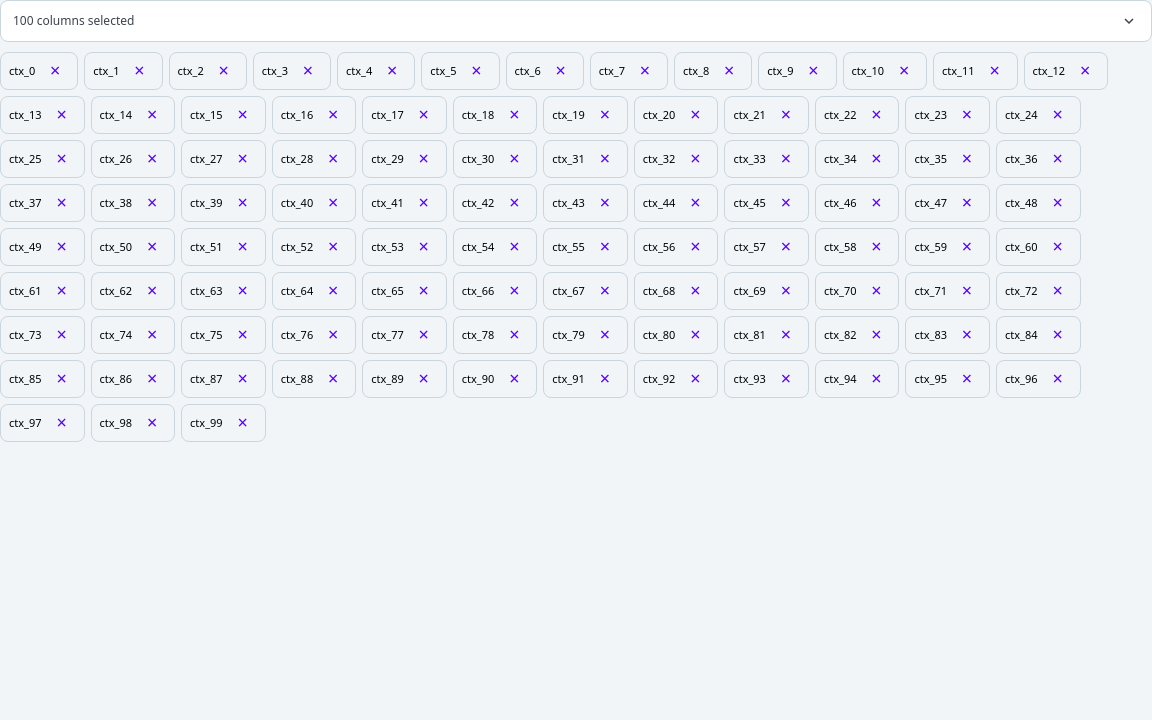
it: Changed column picker › bounds the list and selected count without discarding catalog values
The width and height of the screenshot is (1152, 720).
Click the button with aria-label "Changed columns (optional)". click: (74, 21)
box: [0,0,1151,42]
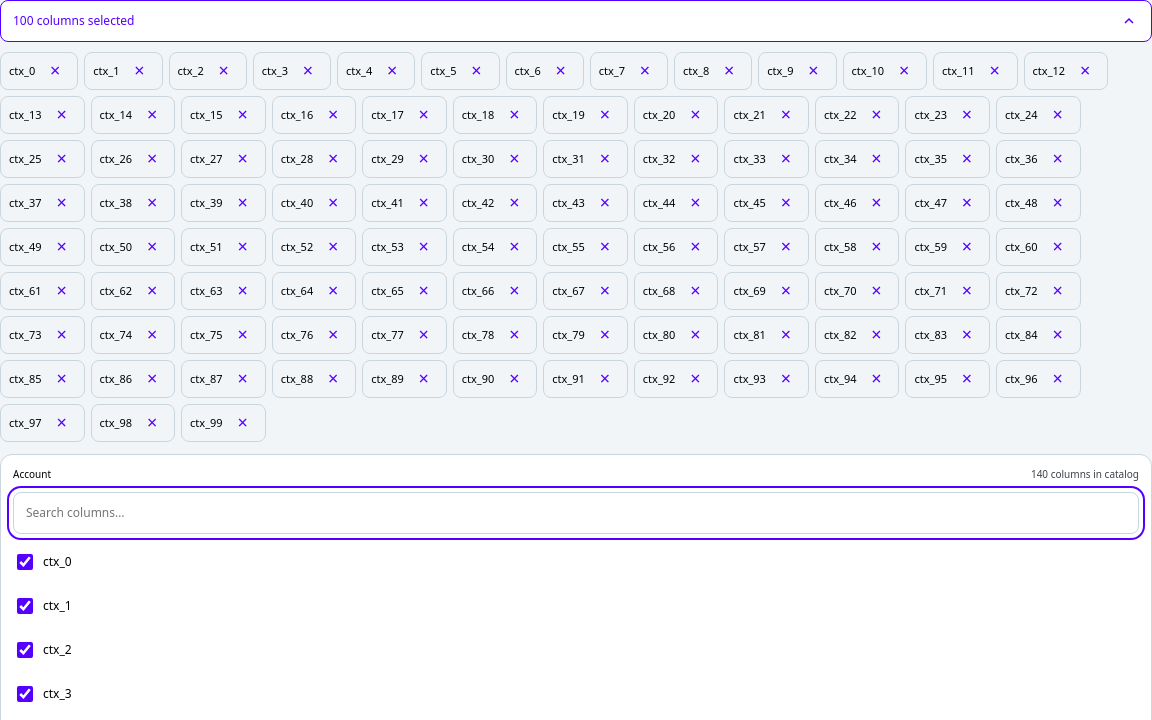
Type "ctx_139" into the search field. click: (576, 512)
box: [13,492,1139,534]
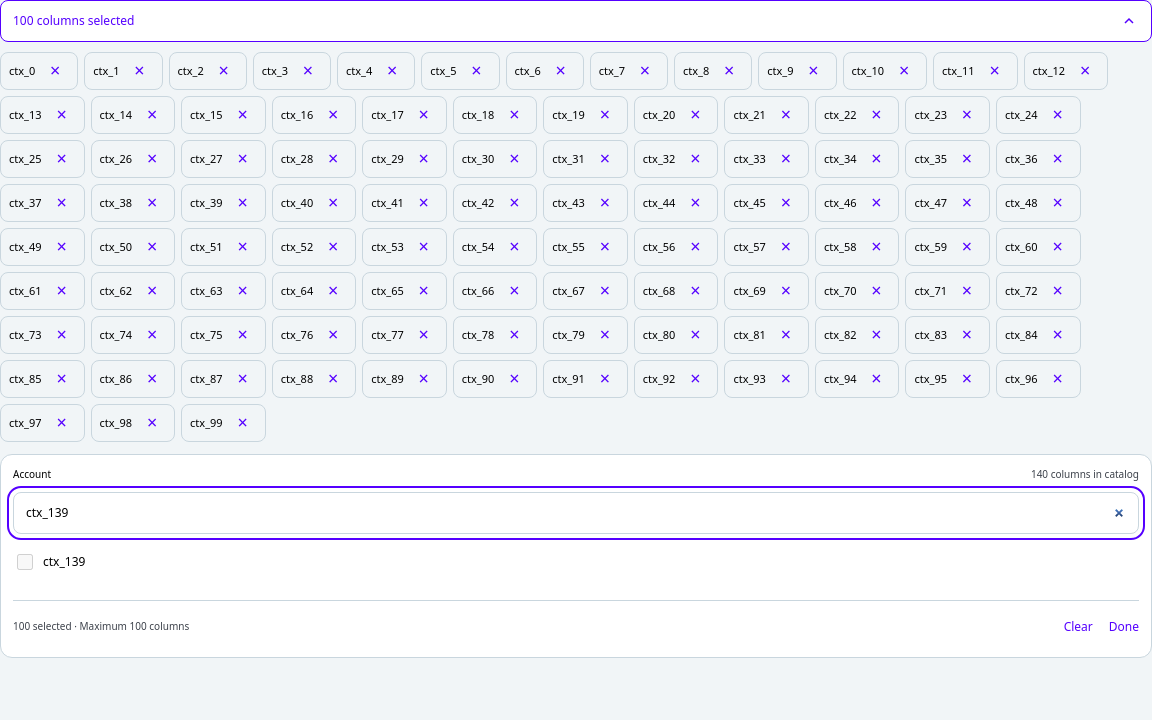
expect the checkbox labelled "ctx_139" is disabled: met, box [17,554,33,570]
Click the button named "Remove column ctx_0". click: (55, 71)
box: [41,57,69,85]
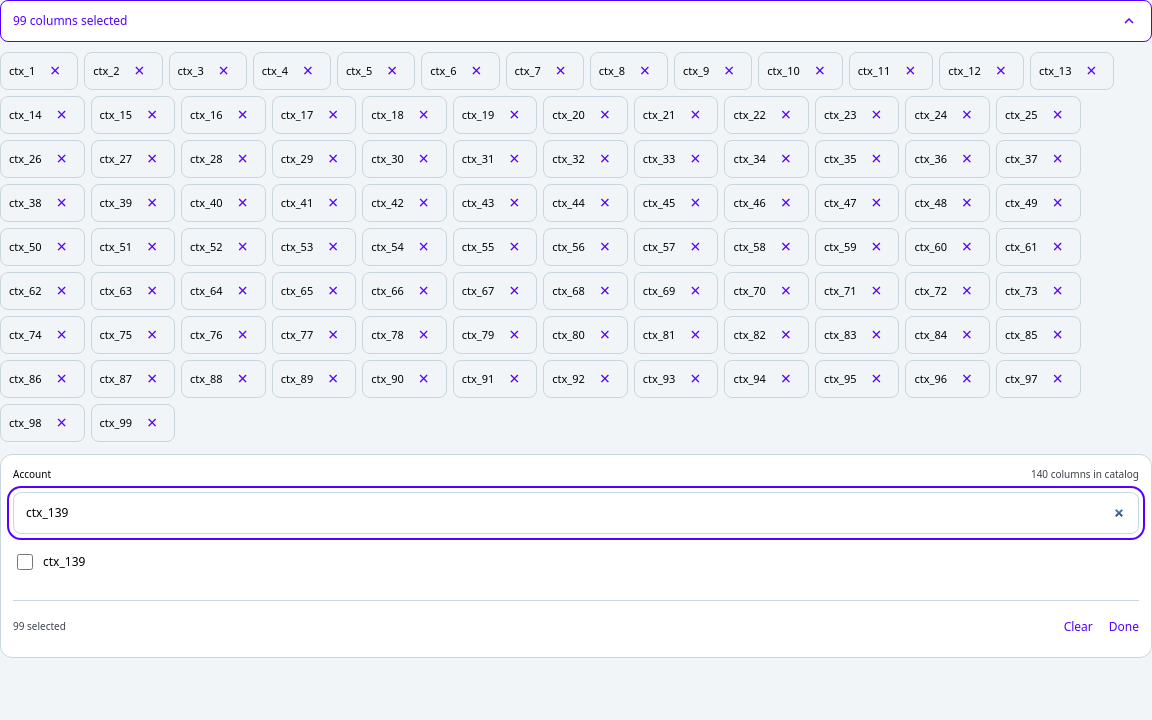
expect the checkbox labelled "ctx_139" is enabled: met, box [17,554,33,570]
